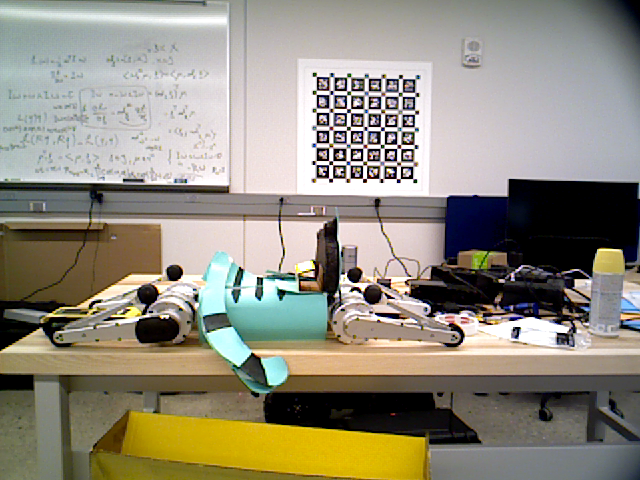painting4: (292, 60, 433, 192)
